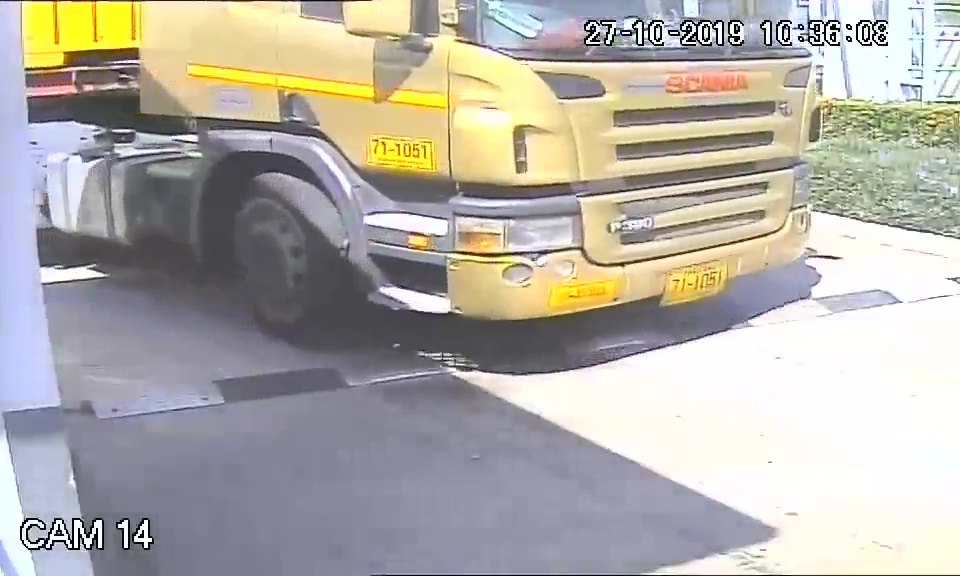truck: (192, 2, 826, 369)
